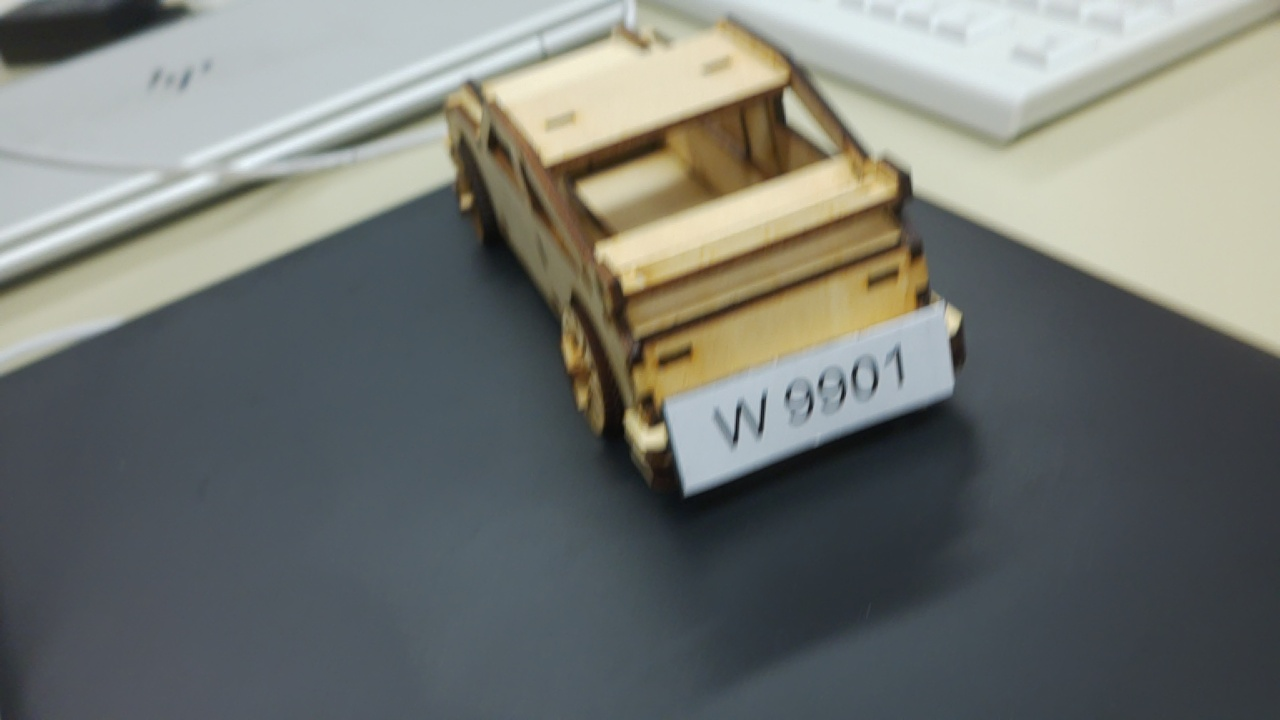license_plate: (641, 288, 977, 503)
